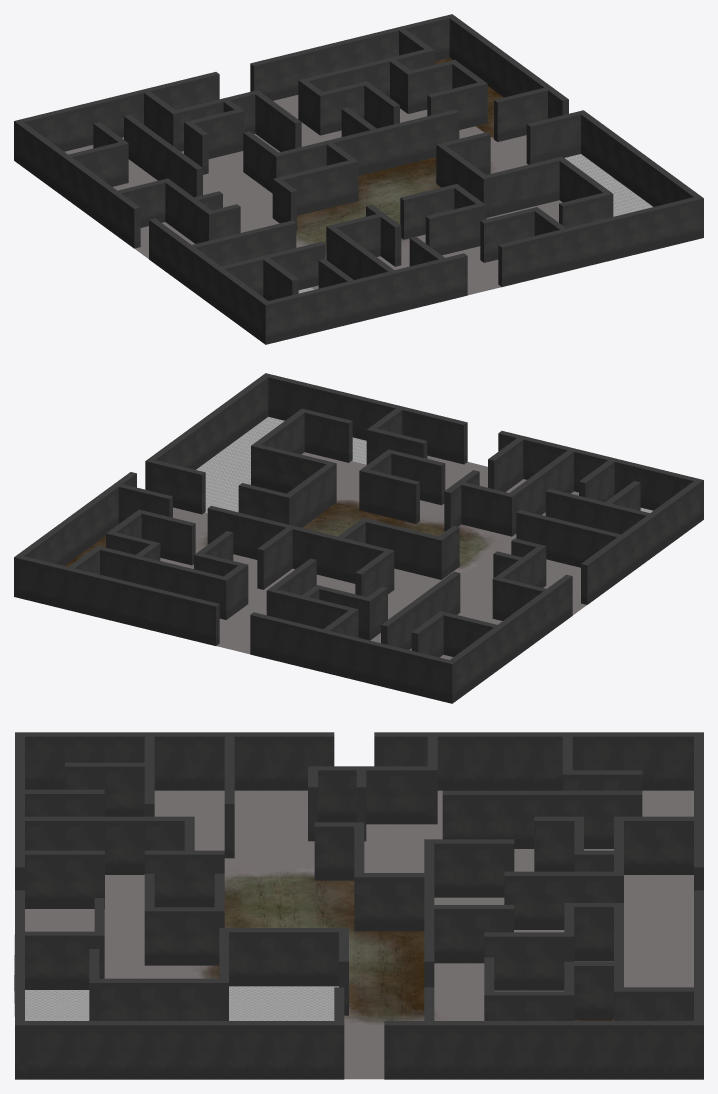
Rendered from MazeTutorial.fbx.
3 views of the same model, one above another, from view 1: azimuth 30°, elevation 25°; view 2: azimuth 150°, elevation 25°; view 3: azimuth 270°, elevation 25° (orthographic). The views are drawn at different scales.
Visible parts, largest first — view 1: MazeSmall Floor; view 2: MazeSmall Floor; view 3: MazeSmall Floor.
Part boxes in pixels (box(x1,y1,x2,y2)): MazeSmall Floor: box(14, 14, 703, 344); MazeSmall Floor: box(14, 373, 703, 703); MazeSmall Floor: box(14, 732, 703, 1079).
Bounding box in the file's own units: 3469 × 300 × 3455.
